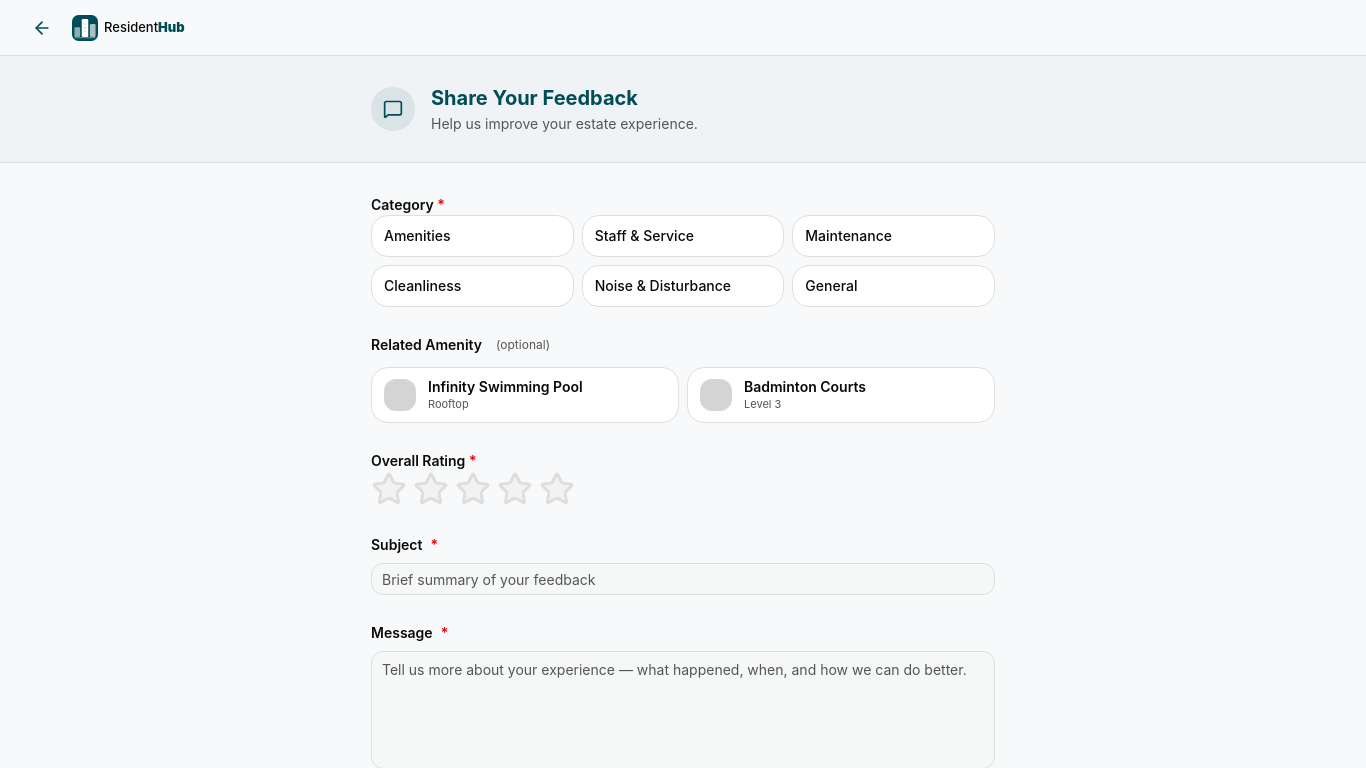
FeedbackPage › shows success state after a valid submission
Click the radio button labelled "General": point(894, 286) [792, 265, 995, 307]
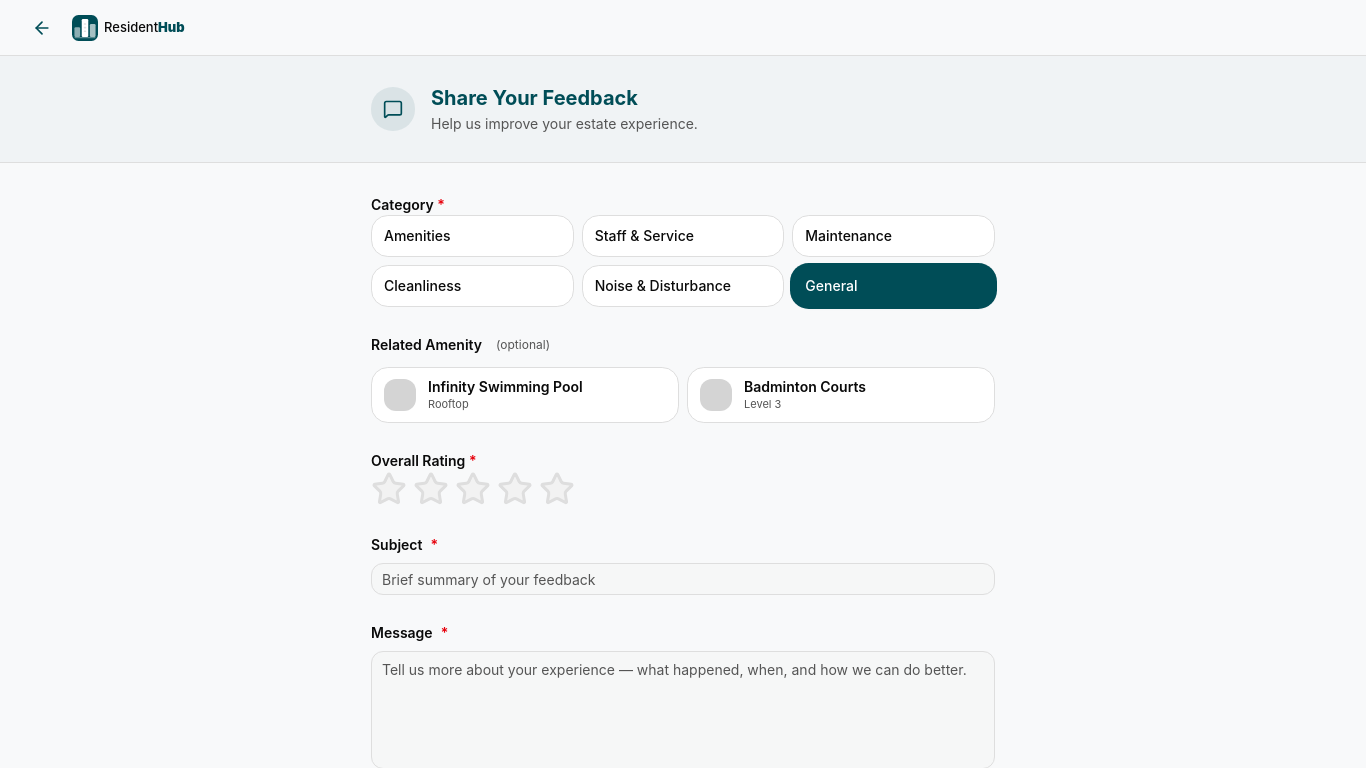
Click the radio button named "4 stars": point(515, 489) [497, 471, 533, 507]
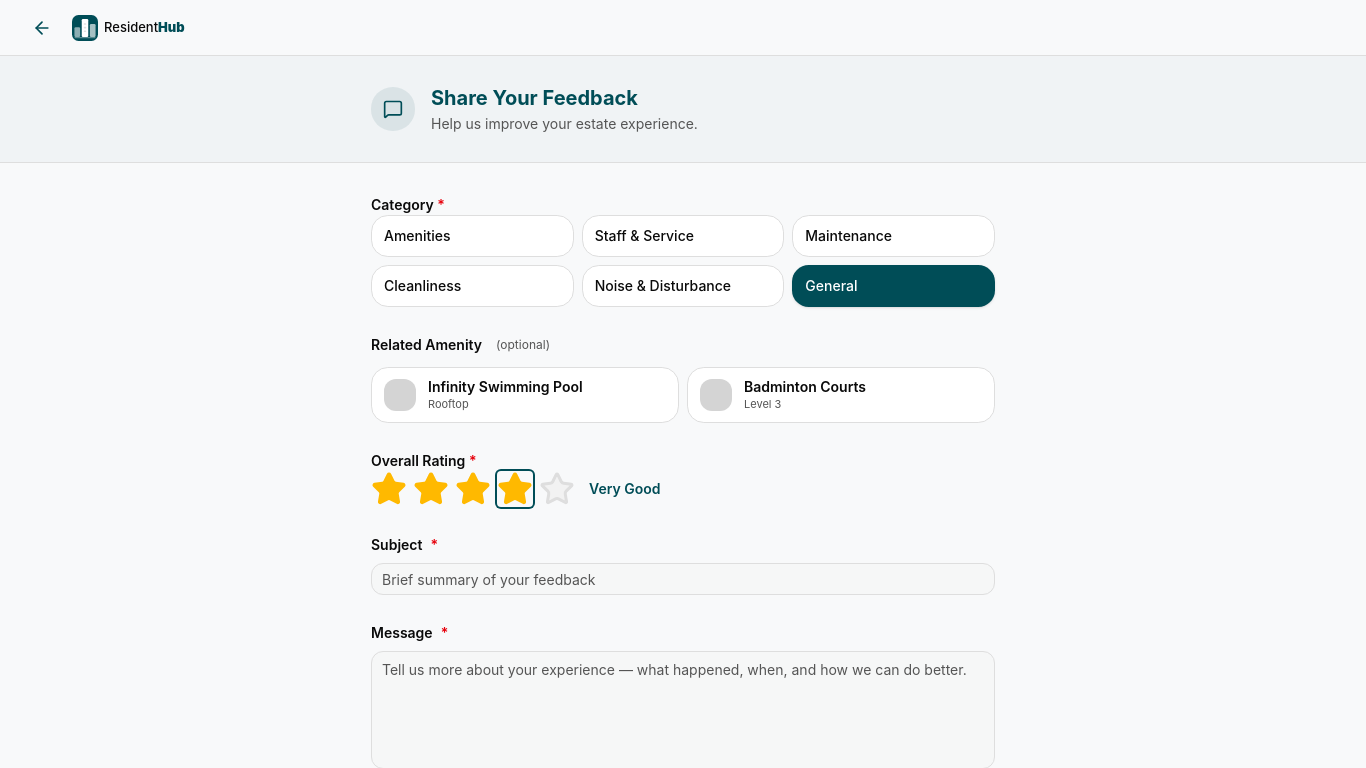
In the field labelled "Subject *": point(683, 579) [371, 563, 995, 595], type "Great facilities overall"
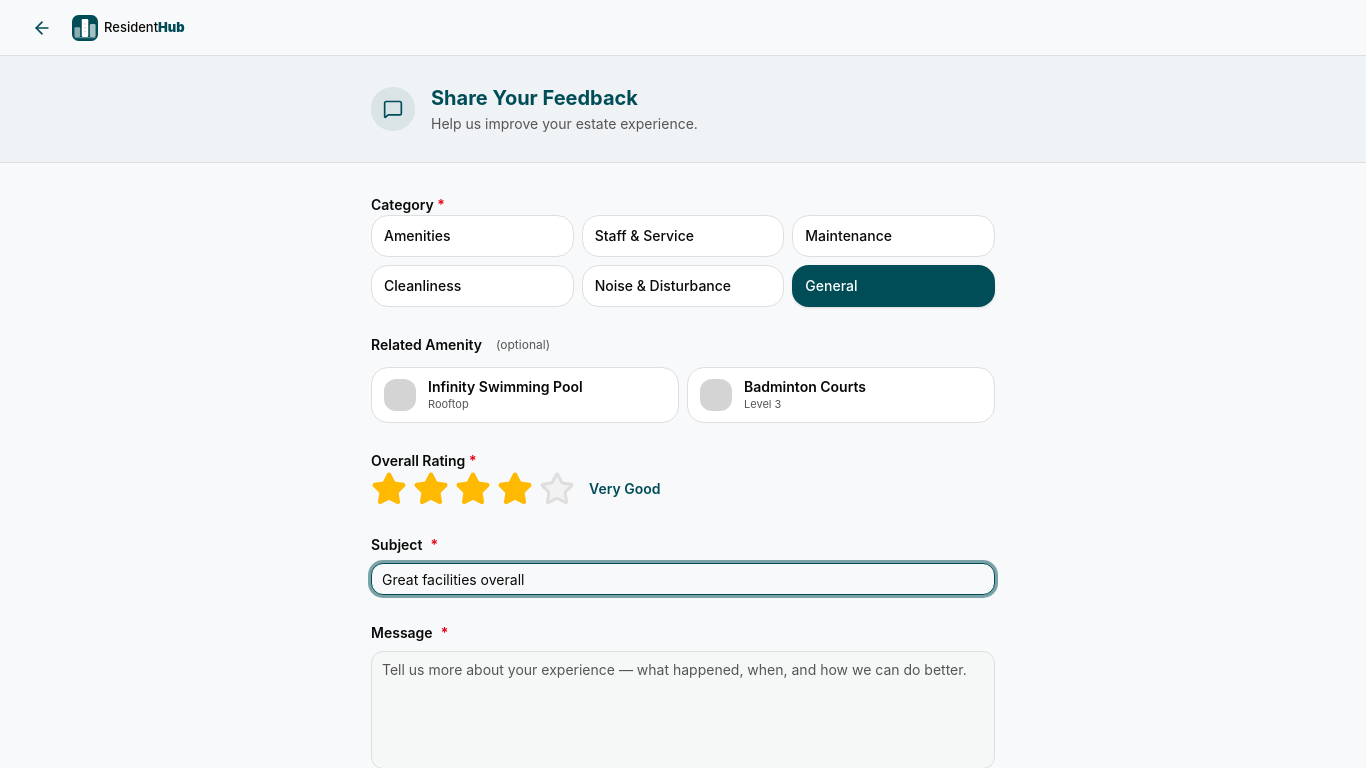
In the text box labelled "Message *": point(683, 710) [371, 651, 995, 767], type "Everything is well-maintained and the staff is very helpful."
(page scrolled)
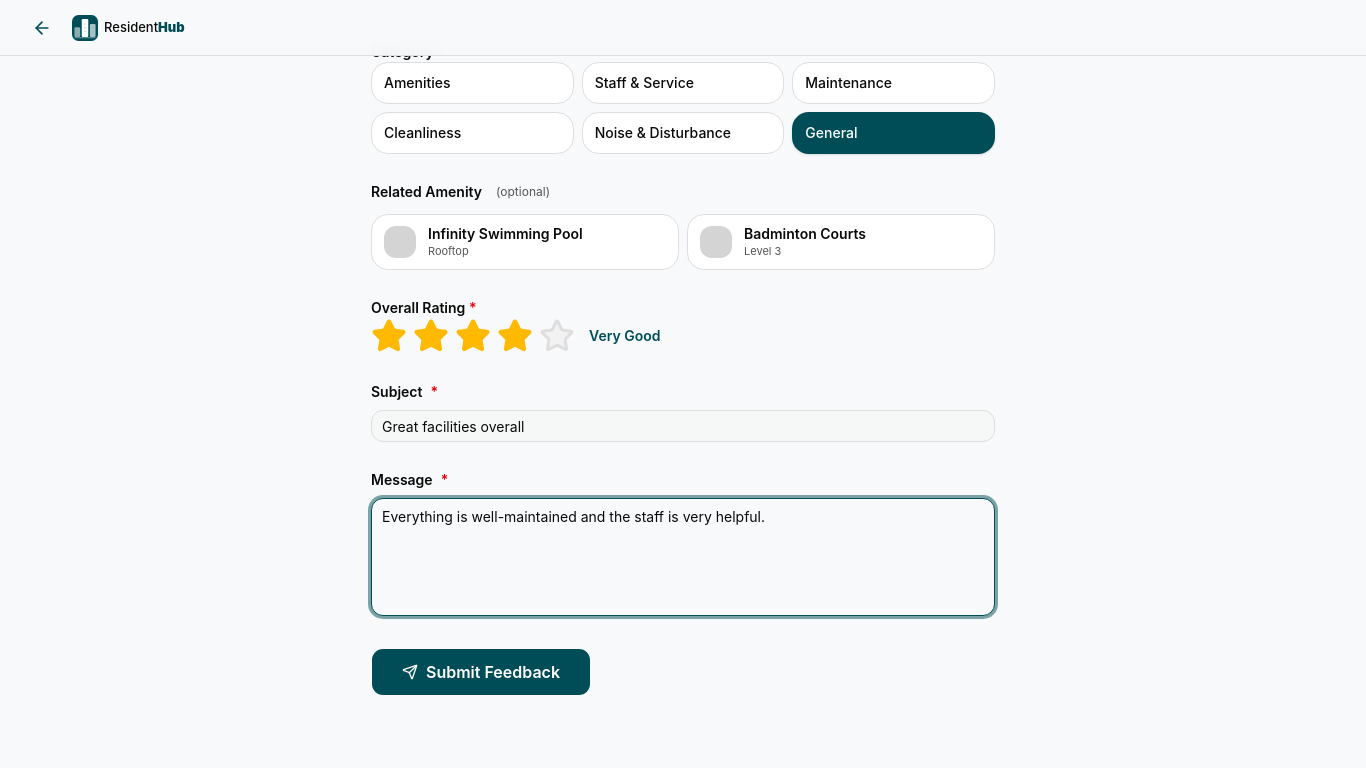
Click the button "Submit Feedback": point(481, 672) [371, 648, 591, 696]
(page scrolled)
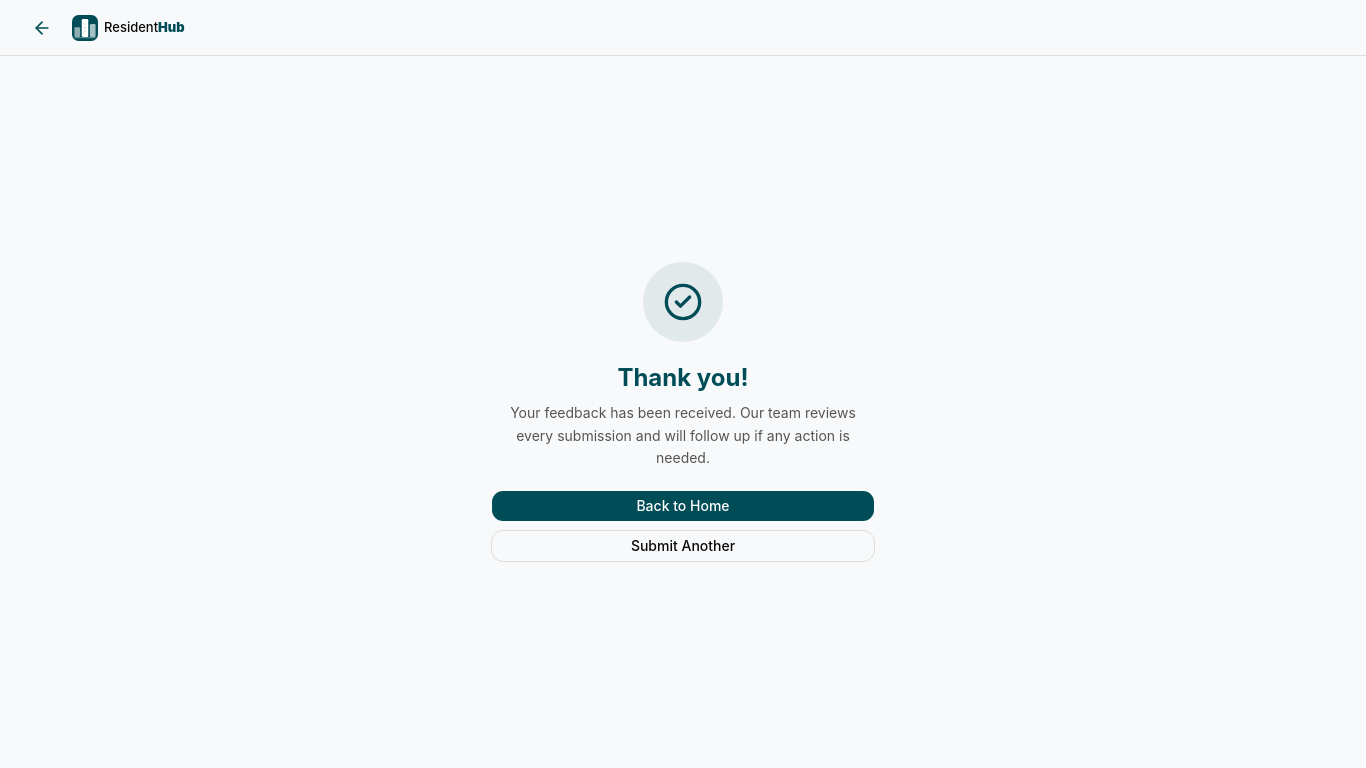
expect the heading "Thank you!" is shown: met, box [617, 363, 749, 392]
